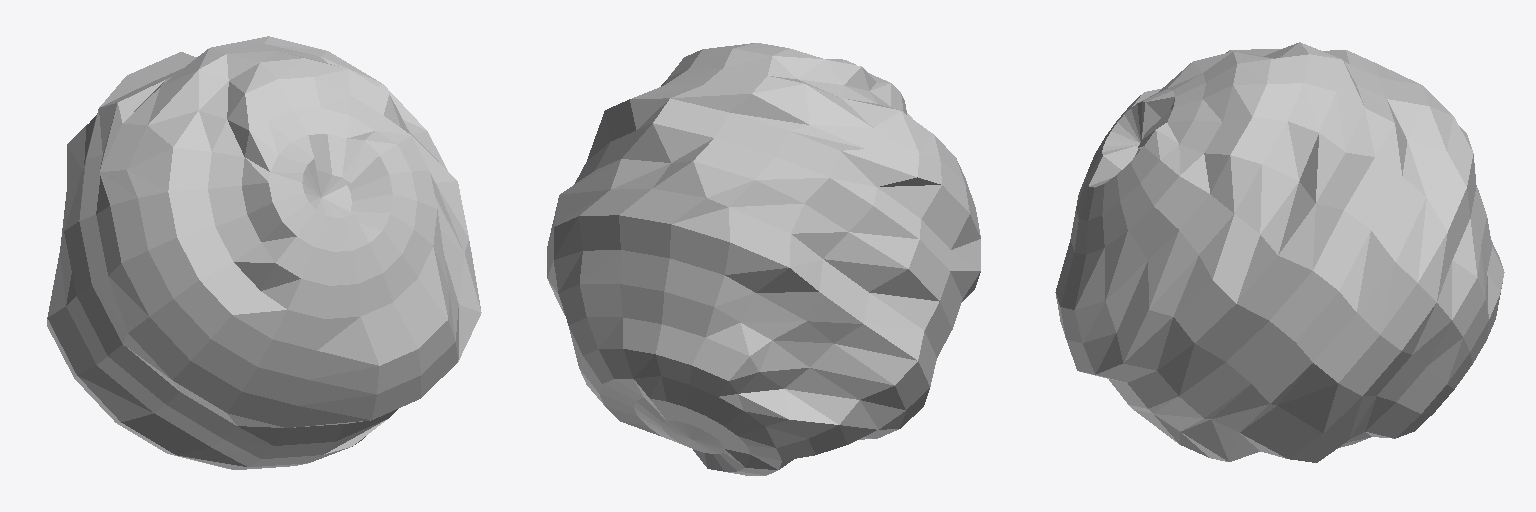
File: Snowball.obj
The picture shows the model from 3 angles: view 1: azimuth 30°, elevation 25°; view 2: azimuth 150°, elevation 25°; view 3: azimuth 270°, elevation 25°; orthographic projection.
Parts seen in each view (by area): view 1: pSphere1; view 2: pSphere1; view 3: pSphere1.
Part boxes in pixels (bbox=[...]): pSphere1: bbox=[47, 36, 481, 469]; pSphere1: bbox=[547, 43, 980, 475]; pSphere1: bbox=[1055, 42, 1504, 462].
Size of the model in its own units: 1.9 by 1.99 by 2.06.